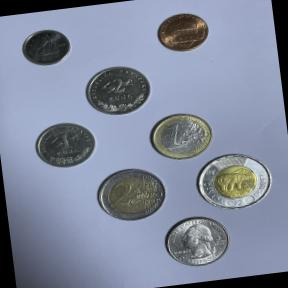coin: (191, 150, 281, 216), (91, 162, 171, 228), (158, 212, 237, 276), (80, 60, 158, 123), (146, 108, 218, 164), (152, 8, 216, 59), (19, 25, 74, 70)
